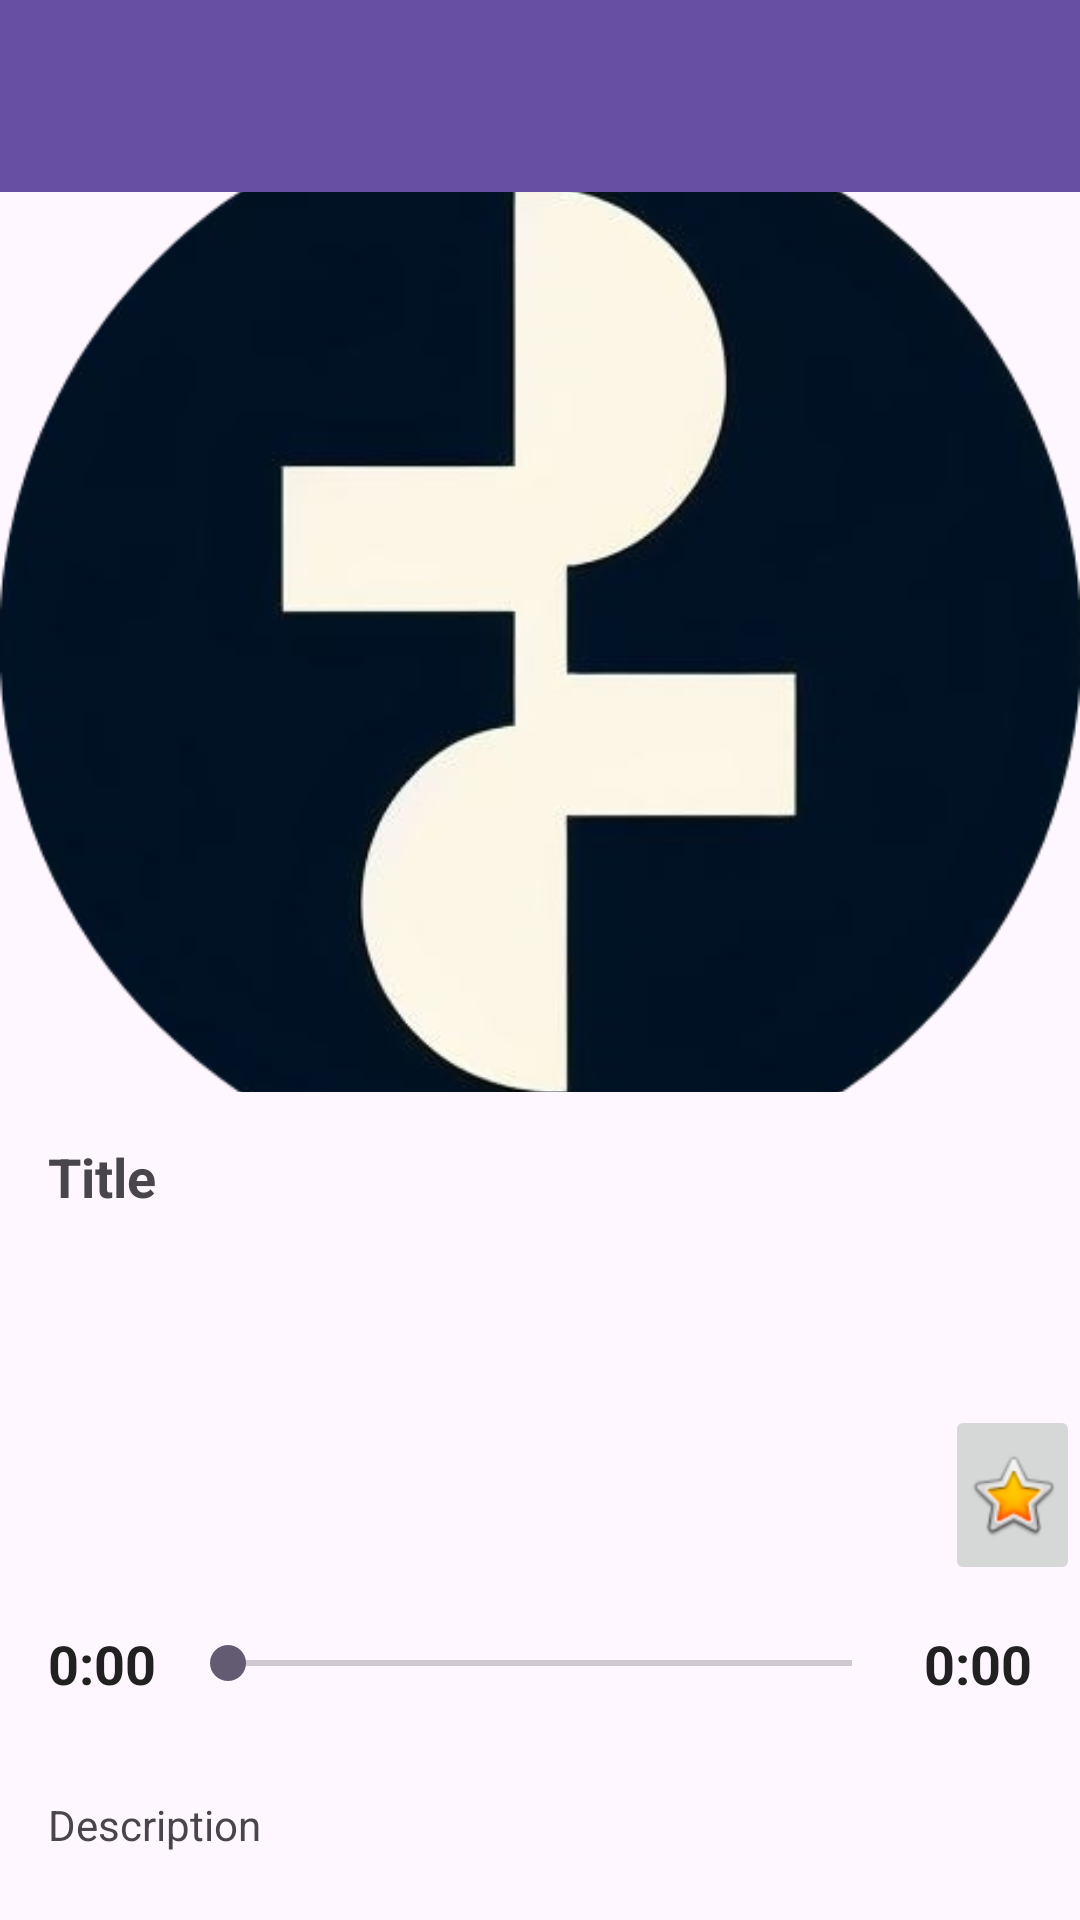

Icon click points for this 1080 × 1920 phone screenshot, format (x,y):
Enter Your favorites: (1012,1495)
